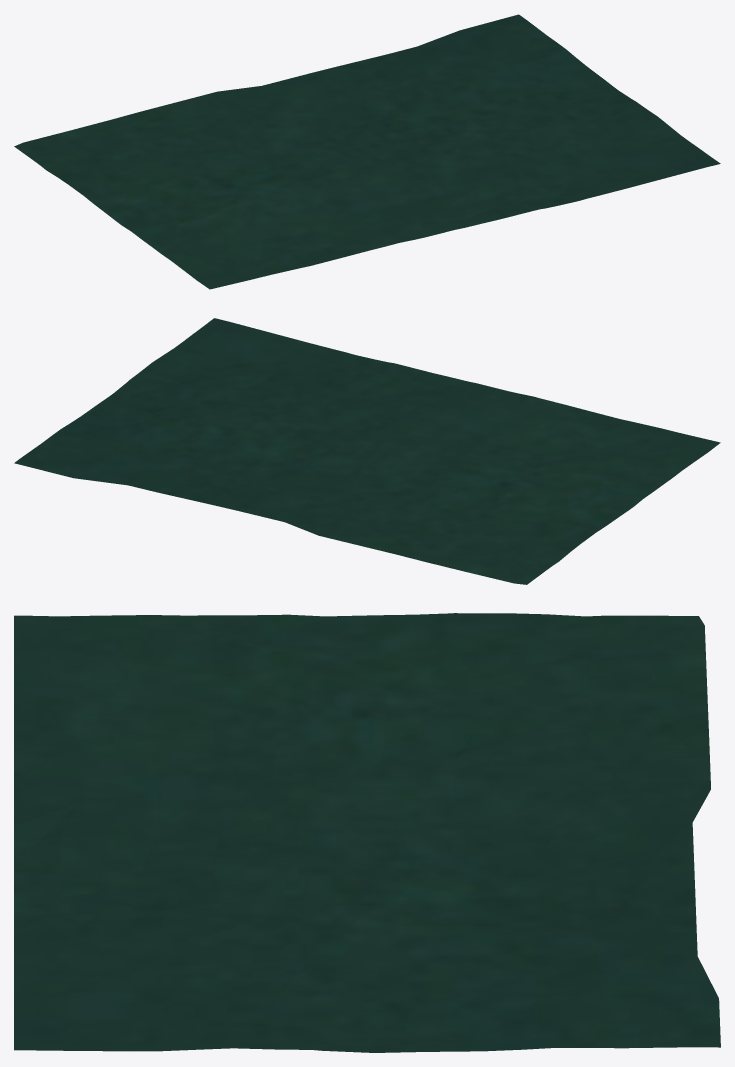
The picture shows the model from 3 angles, top to bottom: view 1: azimuth 30°, elevation 25°; view 2: azimuth 150°, elevation 25°; view 3: azimuth 270°, elevation 25°; orthographic projection. The views are drawn at different scales.
Bounding box in the file's own units: 52.22 × 0.5851 × 35.76.
Materials: 2 (2 with a texture image).
